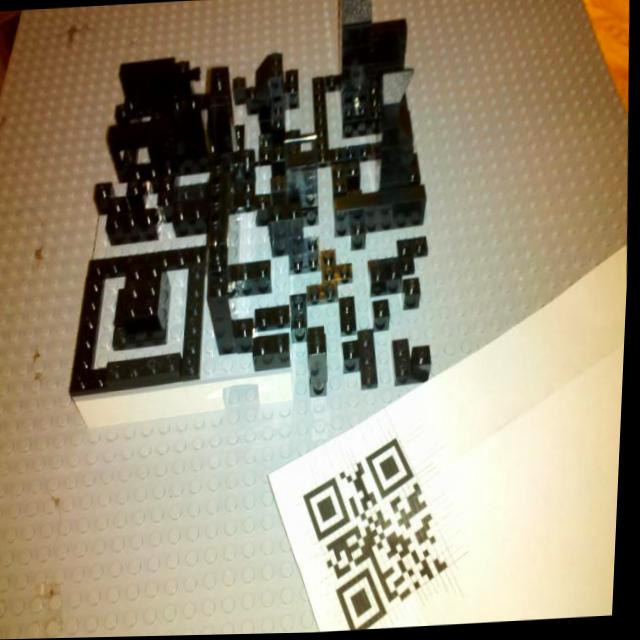qrcode: (302, 438, 467, 635)
